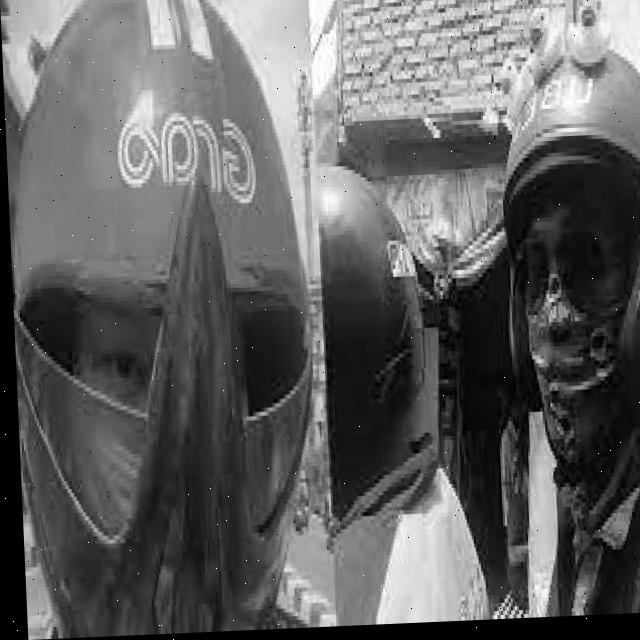Helmet: (0, 0, 314, 640), (494, 30, 640, 484), (302, 161, 424, 516)
